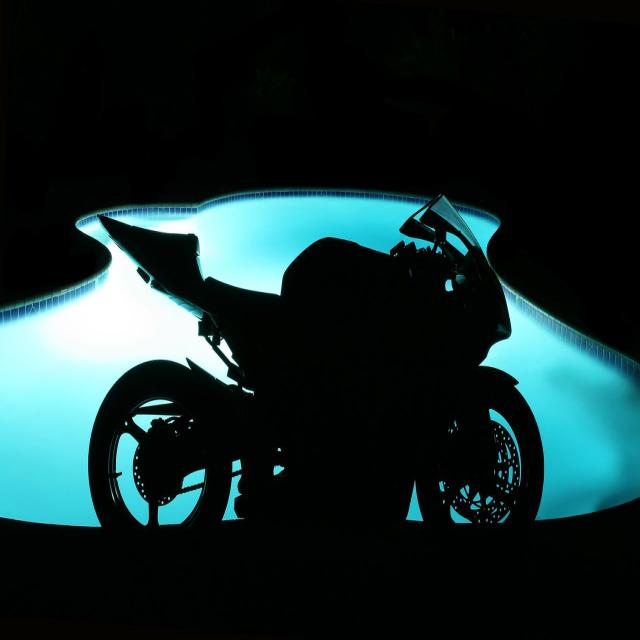Motorbike: (99, 171, 571, 561)
